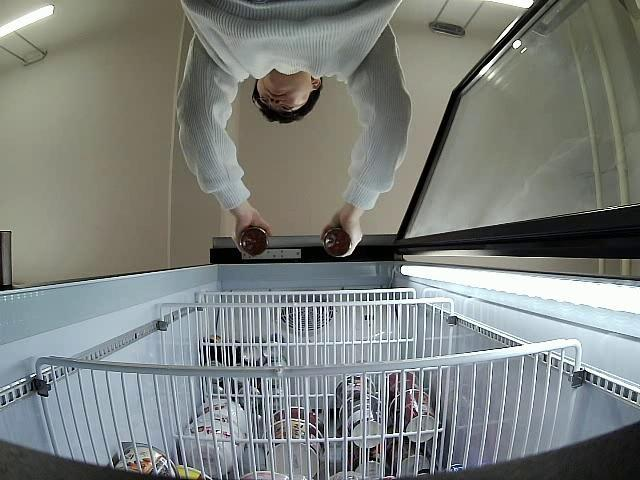19_17cha: (238, 227, 268, 258), (322, 226, 351, 258)
